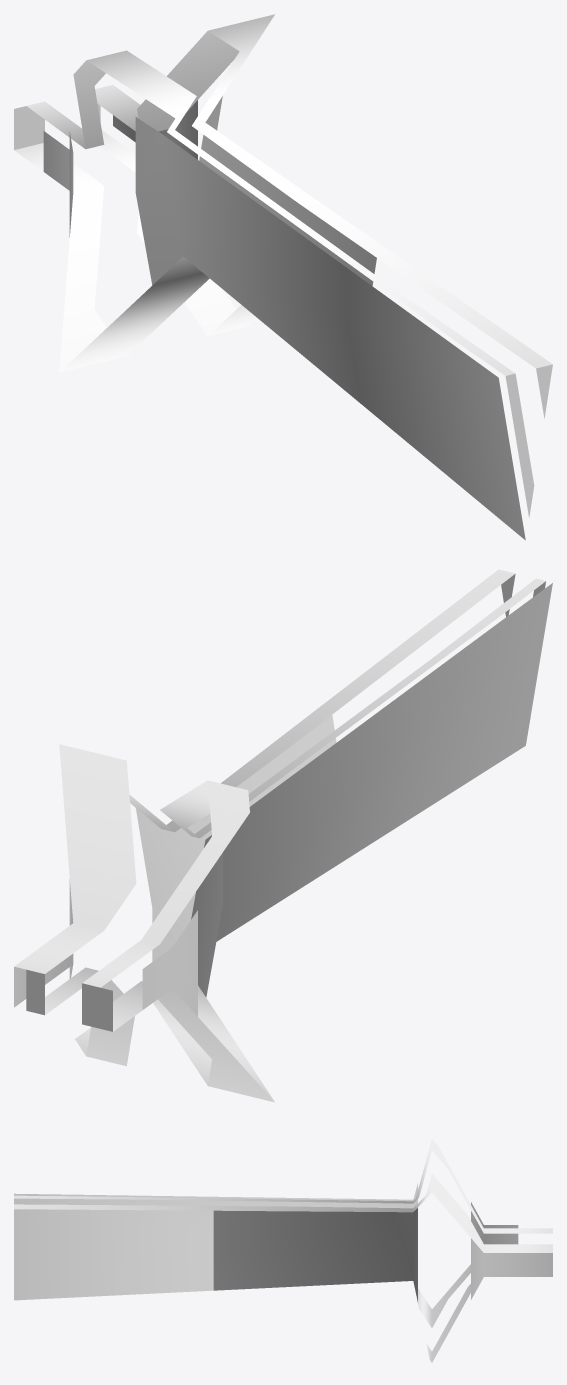
The model's file is SHandWeapon_R4.FBX.
3 views of the same model, one above another, from view 1: azimuth 30°, elevation 25°; view 2: azimuth 150°, elevation 25°; view 3: azimuth 270°, elevation 25° (orthographic). The views are drawn at different scales.
Parts seen in each view (by area): view 1: RWeapon; view 2: RWeapon; view 3: RWeapon.
Part boxes in pixels (x1,y1,x2,y2): RWeapon: [14, 14, 552, 540]; RWeapon: [14, 569, 552, 1102]; RWeapon: [14, 1139, 552, 1362].
Bounding box in the file's own units: 5.12 × 6.93 × 19.
Materials: 1 (1 with a texture image).
